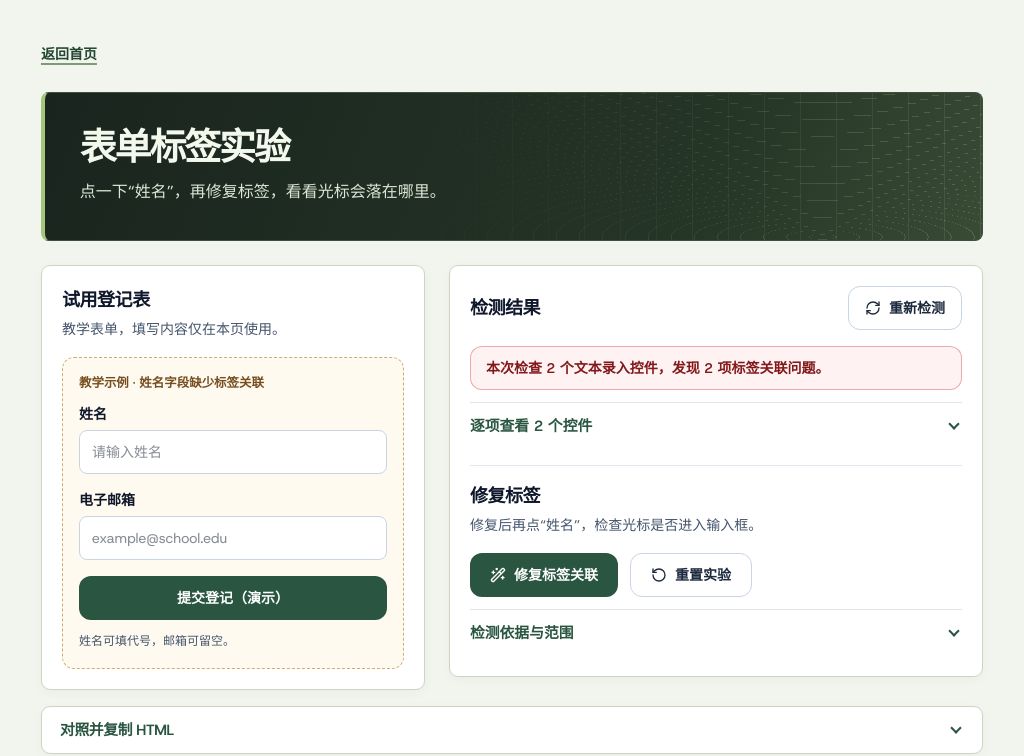
Test case: FormLabelLabPage · 初始缺陷状态（要求 #1 #2） › 缺陷被限制在标注了教学示例的区域内，页面自身的控件都有可访问名称
Step 1. Click the button "重新检测" → (905, 308), box [848,286,962,330]
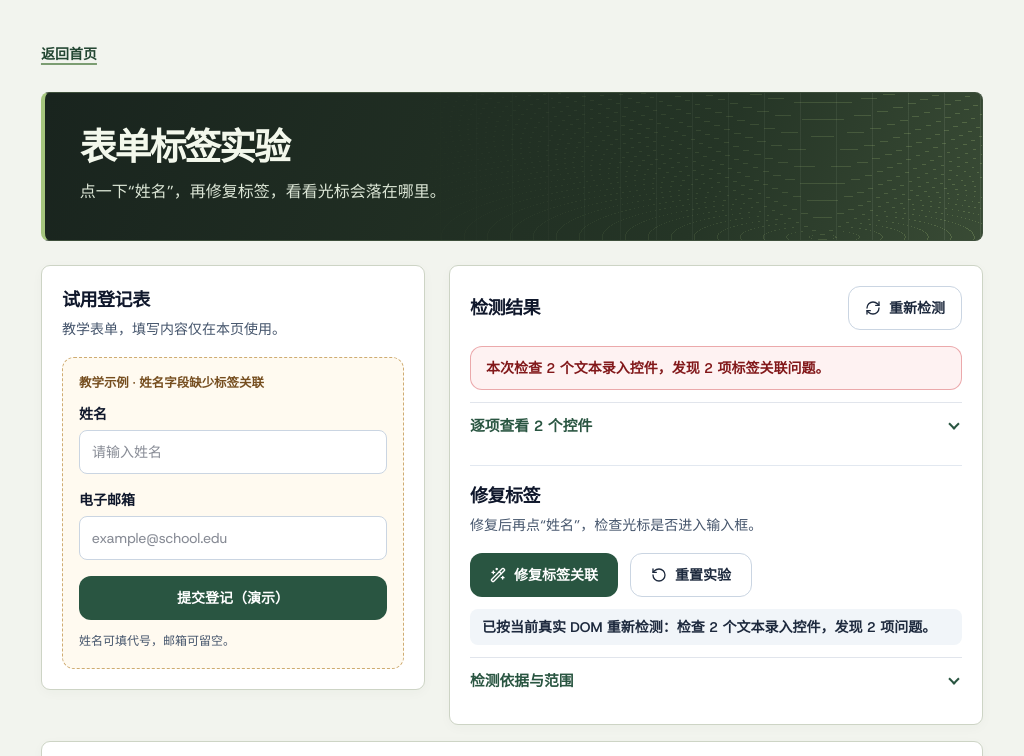
Result: the number of messages is 1 at [470,609,962,645]
